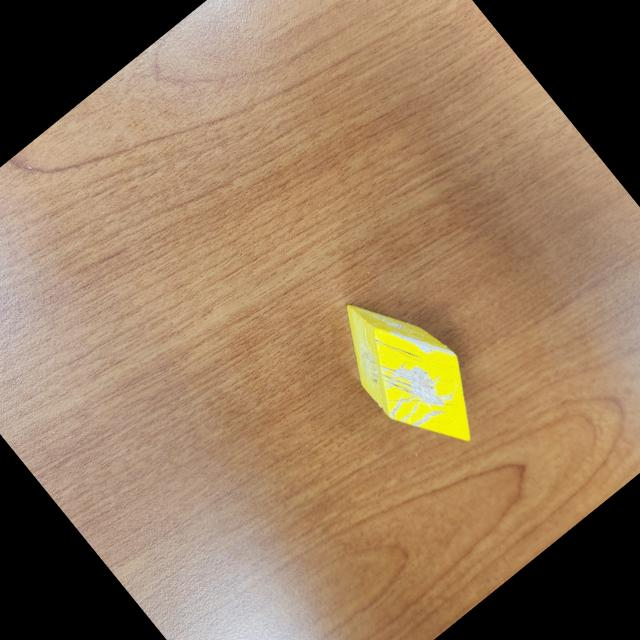broken: (316, 270, 504, 472)
